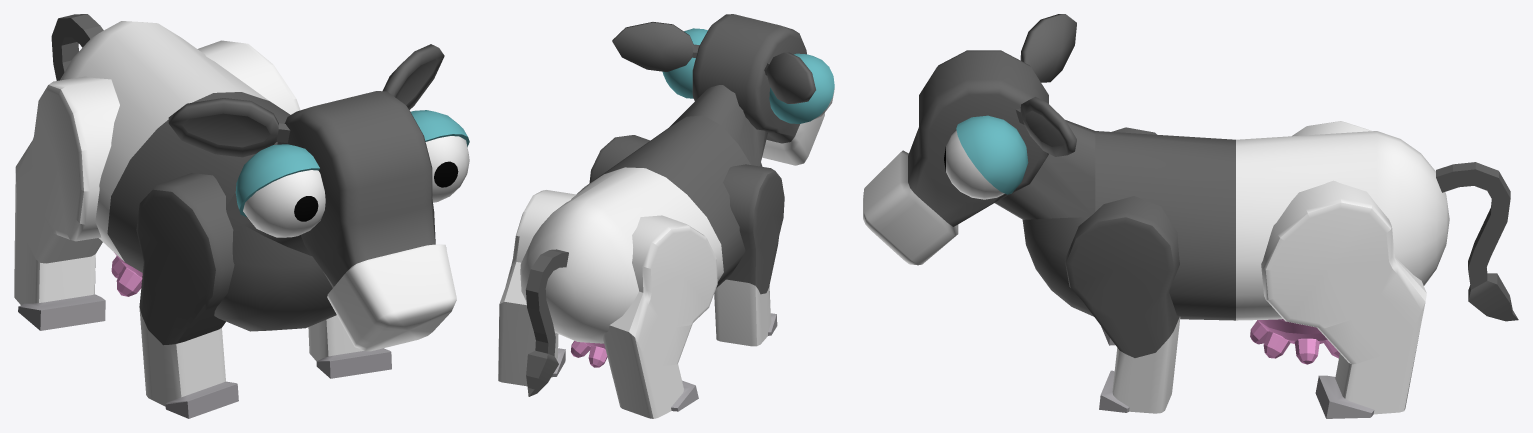
File: Fauna_Cow.fbx
The picture shows the model from 3 angles, left to right: view 1: azimuth 30°, elevation 25°; view 2: azimuth 150°, elevation 25°; view 3: azimuth 270°, elevation 25°; orthographic projection. The views are drawn at different scales.
Parts seen in each view (by area): view 1: Fauna_Cow, head, leg2, arm2, ear2, eye2, arm1, leg1, eyelid2, ear1, eye1, tail (+3 smaller); view 2: Fauna_Cow, leg2, head, arm2, leg1, tail, ear1, neck, eyelid2, ear2, arm1, eyelid1 (+1 smaller); view 3: Fauna_Cow, leg1, head, arm1, neck, tail, eyelid1, ear2, utter, ear1, eye1, leg2.
Boxes of the visible parts, x1,y1,x2,y2 form: Fauna_Cow: (60,21,336,331); head: (277,91,456,351); leg2: (14,76,119,330); arm2: (136,173,238,418); ear2: (168,98,290,157); eye2: (243,170,325,237); arm1: (308,315,391,378); leg1: (197,40,300,114); eyelid2: (235,144,319,216); ear1: (382,44,444,109); eye1: (425,136,469,202); tail: (51,14,103,80); Fauna_Cow: (520,115,762,343); leg2: (602,215,717,418); head: (692,14,824,165); arm2: (714,164,784,346); leg1: (498,190,576,386); tail: (526,249,568,396); ear1: (612,22,699,71); neck: (670,85,767,166); eyelid2: (769,53,834,123); ear2: (764,52,815,103); arm1: (589,135,649,183); eyelid1: (662,28,707,98); Fauna_Cow: (1022,131,1449,320); leg1: (1261,180,1426,418); head: (863,50,1048,265); arm1: (1064,196,1180,413); neck: (995,120,1095,219); tail: (1436,162,1518,321); eyelid1: (956,115,1028,194); ear2: (1020,14,1076,82); utter: (1250,319,1339,364); ear1: (1016,97,1076,156); eye1: (944,130,1004,199); leg2: (1292,121,1371,136).
Bounding box in the file's own units: 1.5 × 1.77 × 3.45.
